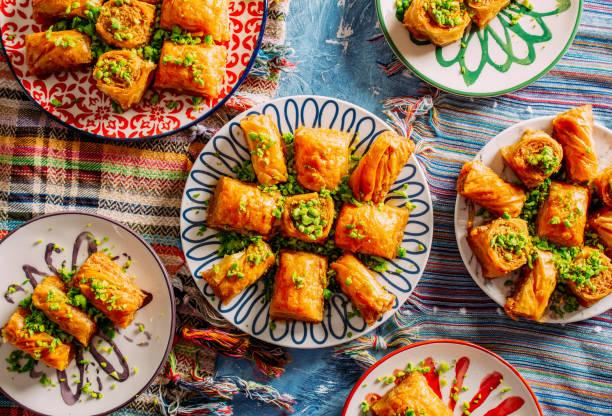Braised Crucian Carp: (181, 94, 418, 346), (0, 209, 177, 415), (0, 1, 261, 140), (452, 115, 611, 321)
